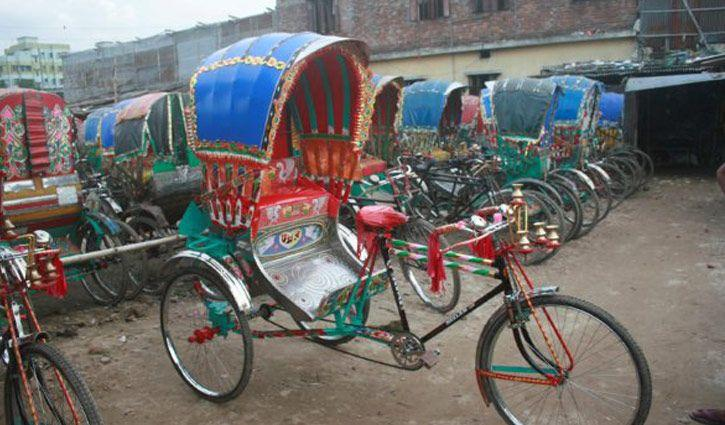Rickshaw: (161, 33, 650, 424), (0, 89, 126, 256), (0, 228, 102, 424), (88, 92, 200, 239), (86, 92, 200, 233), (489, 78, 580, 239), (339, 74, 415, 231), (549, 75, 607, 236), (589, 91, 653, 201), (400, 80, 466, 158), (365, 74, 403, 165), (595, 91, 623, 155), (459, 94, 482, 146), (479, 87, 496, 149)
